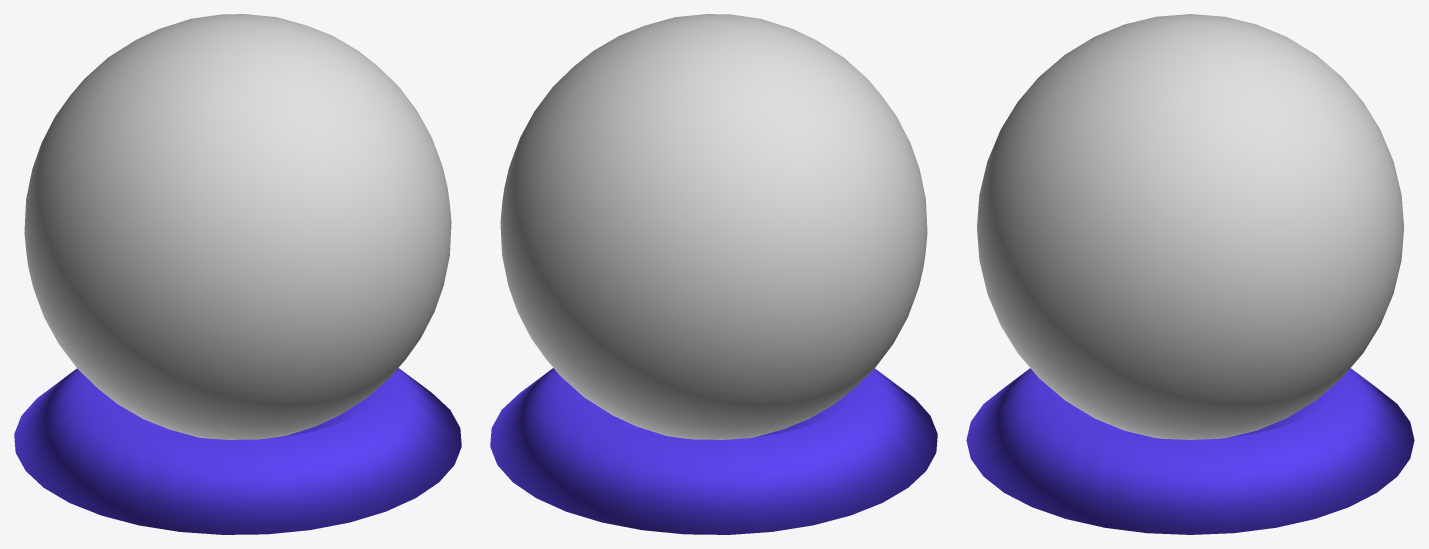
File: crystalball.glb
3 renders of one model, left to right at view 1: azimuth 30°, elevation 25°; view 2: azimuth 150°, elevation 25°; view 3: azimuth 270°, elevation 25°, orthographic.
Visible parts, largest first — view 1: Ball, Base; view 2: Ball, Base; view 3: Ball, Base.
Part boxes in pixels (x1=…): Ball: x1=24, y1=14, x2=451, y2=439; Base: x1=14, y1=368, x2=461, y2=534; Ball: x1=500, y1=14, x2=927, y2=439; Base: x1=490, y1=368, x2=937, y2=534; Ball: x1=977, y1=14, x2=1403, y2=439; Base: x1=966, y1=368, x2=1414, y2=534.
Bounding box in the file's own units: 0.3985 × 0.3987 × 0.3985.
